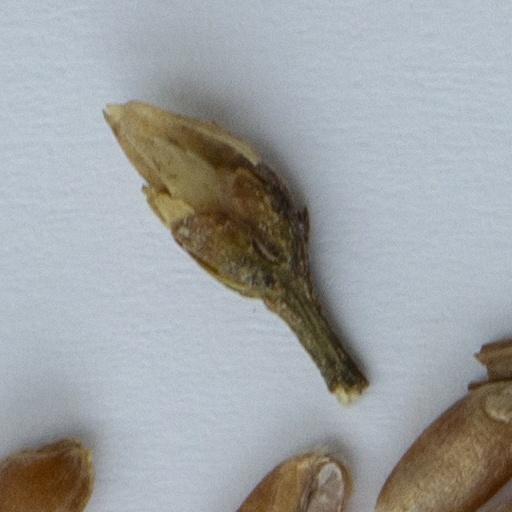Wheat-grain-damaged-poly: (225, 443, 357, 511)
